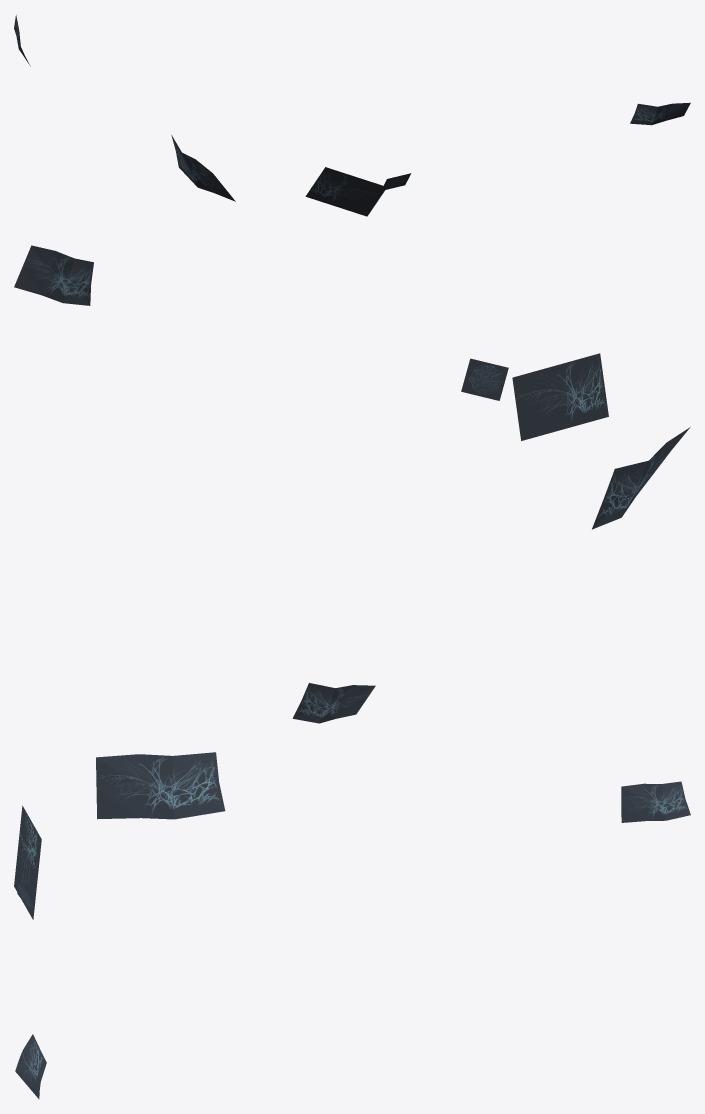
The model's file is Area_11_4.fbx.
3 views of the same model, one above another, from view 1: azimuth 30°, elevation 25°; view 2: azimuth 150°, elevation 25°; view 3: azimuth 270°, elevation 25° (orthographic). The views are drawn at different scales.
Parts seen in each view (by area): view 1: Area_11_4; view 2: Area_11_4; view 3: Area_11_4.
Part boxes in pixels (box(x1,y1,x2,y2)): Area_11_4: box(14, 15, 690, 216); Area_11_4: box(14, 245, 690, 723); Area_11_4: box(14, 752, 690, 1099).
Bounding box in the file's own units: 4920 × 665 × 4782.
1 material, 1 textured.
